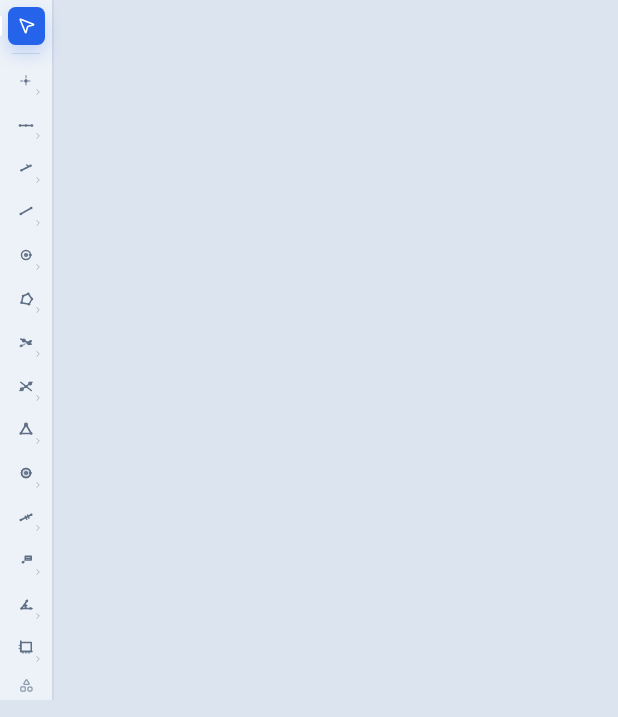
Test case: Toolbar groups › localizes toolbar groups and tool labels in Greek
Step 1. Click the button named "Εργαλεία: Σημεία" → [26, 81], box [8,62,45,99]
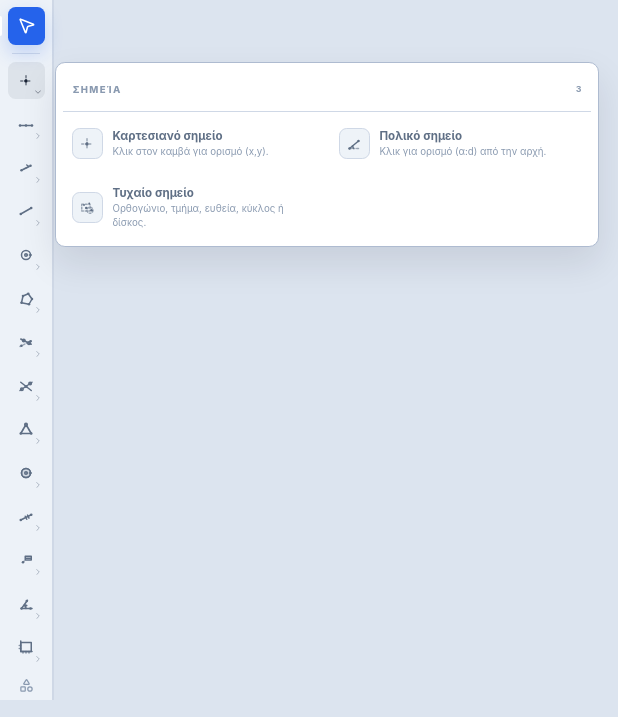
Expected: the menu "Σημεία" is shown, [55,62,599,247]
Expected: the menu item "Καρτεσιανό σημείο Κλικ στον καμβά για ορισμό (x,y)." is shown, [63,117,324,170]
